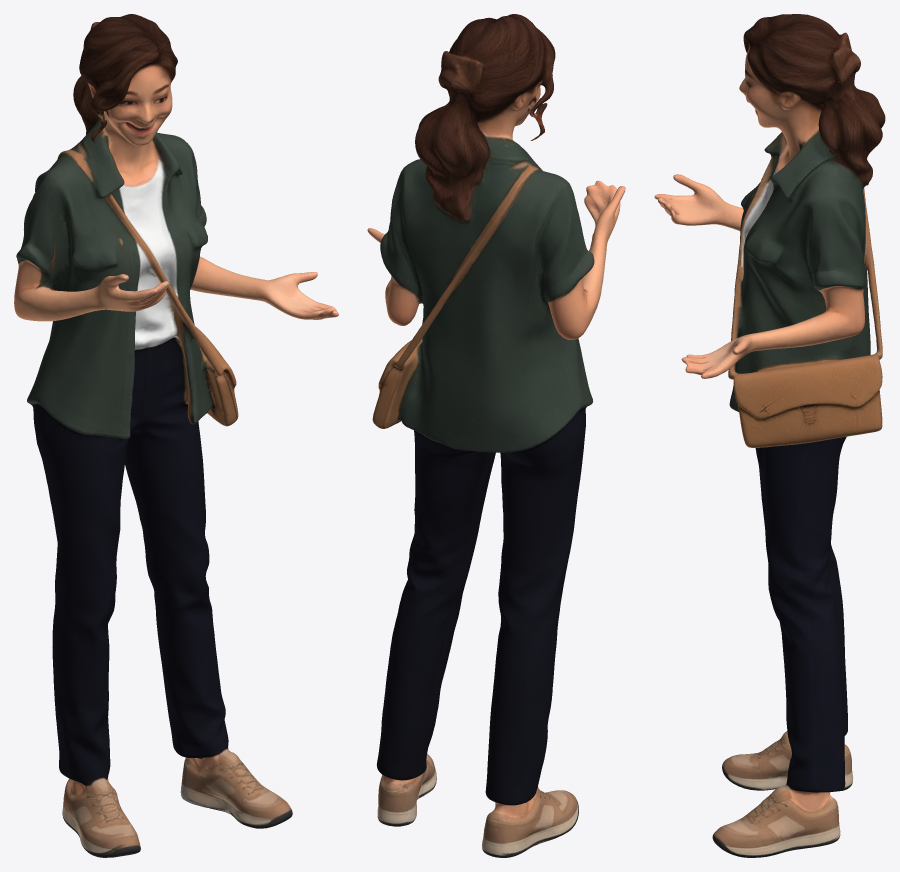
The model's file is guide_pose2.glb.
3 views of the same model, side by side, from view 1: azimuth 30°, elevation 25°; view 2: azimuth 150°, elevation 25°; view 3: azimuth 270°, elevation 25° (orthographic). The views are drawn at different scales.
Size of the model in its own units: 0.6466 by 1.9 by 0.5091.
Materials: 1 (1 with a texture image).
